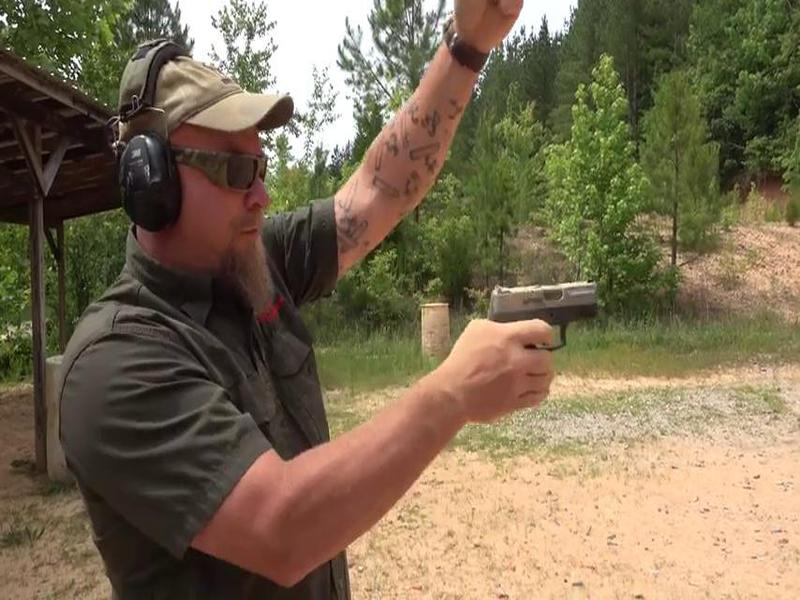Pistola: (483, 262, 609, 354)
